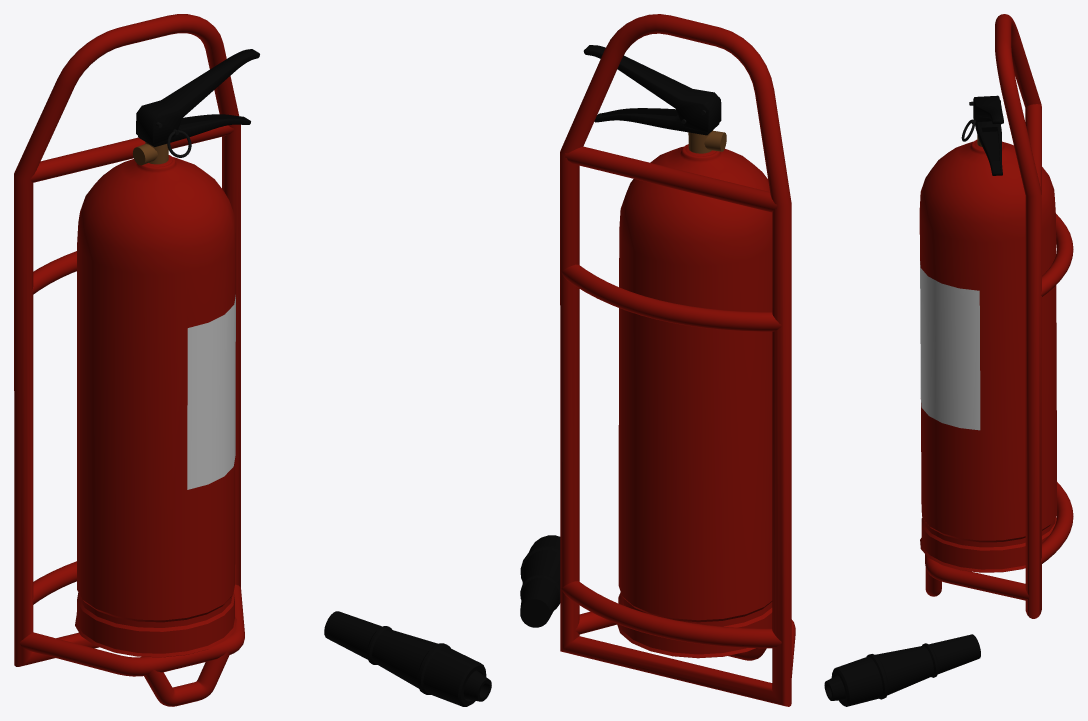
Rendered from _ireext.FBX.
3 views of the same model, side by side, from view 1: azimuth 30°, elevation 25°; view 2: azimuth 150°, elevation 25°; view 3: azimuth 270°, elevation 25° (orthographic). The views are drawn at different scales.
Visible parts, largest first — view 1: OilTank26, Rectangle11, Cylinder26, Rectangle10, Rectangle09; view 2: OilTank26, Rectangle11, Rectangle10, Cylinder26, Rectangle09; view 3: OilTank26, Rectangle11, Cylinder26, Rectangle09, Rectangle10.
Part boxes in pixels (x1,y1,x2,y2): OilTank26: [75, 155, 236, 657]; Rectangle11: [14, 14, 244, 706]; Cylinder26: [324, 611, 491, 706]; Rectangle10: [136, 49, 259, 144]; Rectangle09: [138, 114, 250, 146]; OilTank26: [617, 144, 772, 658]; Rectangle11: [560, 14, 795, 706]; Rectangle10: [583, 45, 721, 132]; Cylinder26: [520, 535, 560, 627]; Rectangle09: [594, 108, 719, 135]; OilTank26: [919, 139, 1057, 572]; Rectangle11: [925, 14, 1073, 618]; Cylinder26: [824, 634, 980, 706]; Rectangle09: [975, 121, 1002, 175]; Rectangle10: [973, 95, 1003, 126].
Size of the model in its own units: 17.21 by 30.41 by 11.87.
